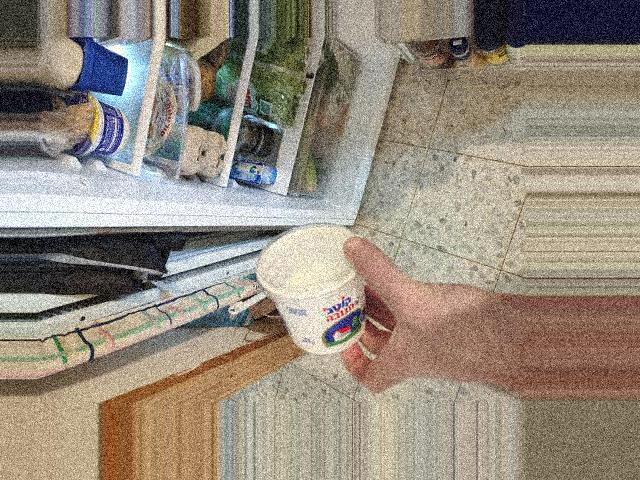cotage: (246, 240, 366, 340)
